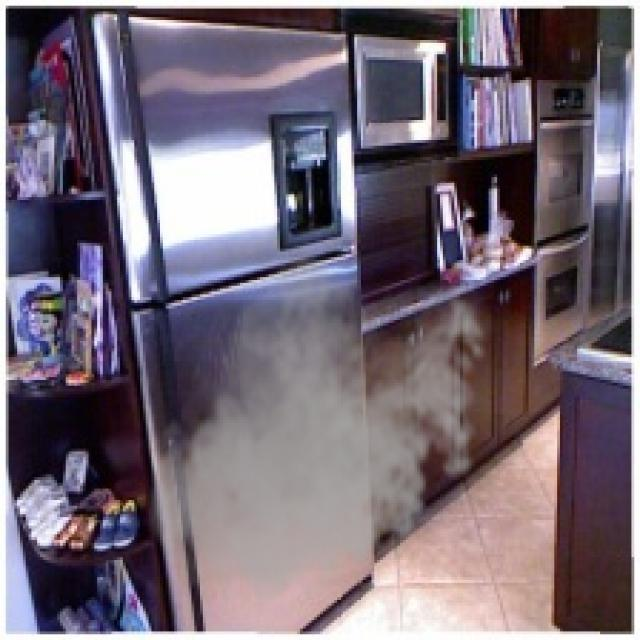Smoke: (140, 255, 497, 614)
